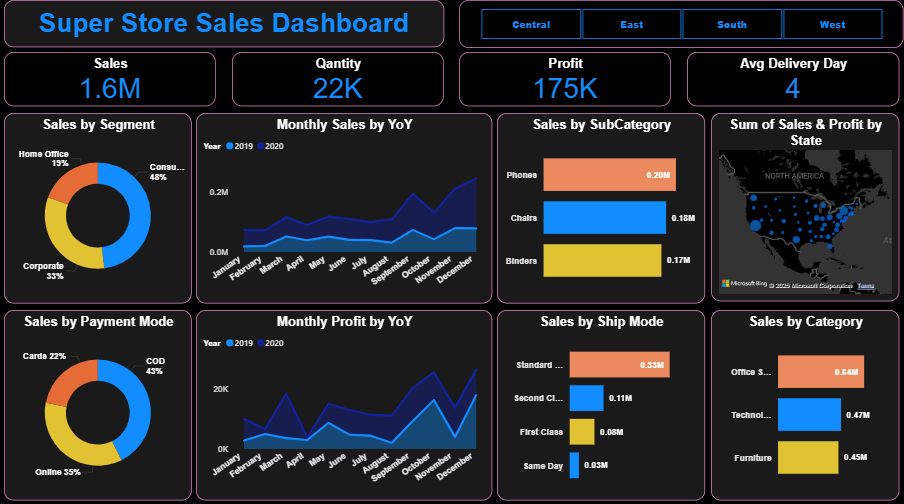

What the dashboard file says about the page in this screenshot:
{"tool":"powerbi","page":{"name":"Dashboard","canvas":[1280,720],"ordinal":0},"visuals":[{"type":"clusteredBarChart","title":"Sales by Category","fields":{"Category":["SuperStore_Sales_Dataset.Category"],"Y":["Sum(SuperStore_Sales_Dataset.Sales)"]},"box":[1007.9,442.5,267,270],"z":0},{"type":"clusteredBarChart","title":"Sales by SubCategory","fields":{"Y":["Sum(SuperStore_Sales_Dataset.Sales)"],"Category":["SuperStore_Sales_Dataset.Sub-Category"]},"box":[703.8,163.6,295,270],"z":1000},{"type":"clusteredBarChart","title":"Sales by Ship Mode","fields":{"Y":["Sum(SuperStore_Sales_Dataset.Sales)"],"Category":["SuperStore_Sales_Dataset.Ship Mode"]},"box":[703.8,442.5,295,270],"z":2000},{"type":"stackedAreaChart","title":"Monthly Sales by YoY","fields":{"Y":["Sum(SuperStore_Sales_Dataset.Sales)"],"Category":["SuperStore_Sales_Dataset.Order Date.Variation.Date Hierarchy.Month","SuperStore_Sales_Dataset.Order Date.Variation.Date Hierarchy.Day"],"Series":["SuperStore_Sales_Dataset.Order Date.Variation.Date Hierarchy.Year"]},"box":[277.2,163.6,420,270],"z":3000},{"type":"stackedAreaChart","title":"Monthly Profit by YoY","fields":{"Category":["SuperStore_Sales_Dataset.Order Date.Variation.Date Hierarchy.Month","SuperStore_Sales_Dataset.Order Date.Variation.Date Hierarchy.Day"],"Series":["SuperStore_Sales_Dataset.Order Date.Variation.Date Hierarchy.Year"],"Y":["Sum(SuperStore_Sales_Dataset.Profit)"]},"box":[277.2,442.5,420,270],"z":4000},{"type":"map","title":"Sum of Sales & Profit by State","fields":{"Category":["SuperStore_Sales_Dataset.State"],"Size":["Sum(SuperStore_Sales_Dataset.Sales)"]},"box":[1007.9,162.9,267.1,267.1],"z":5000},{"type":"donutChart","title":"Sales by Segment","fields":{"Category":["SuperStore_Sales_Dataset.Segment"],"Y":["Sum(SuperStore_Sales_Dataset.Sales)"]},"box":[6.1,163,266,270],"z":6000},{"type":"donutChart","title":"Sales by Payment Mode","fields":{"Y":["Sum(SuperStore_Sales_Dataset.Sales)"],"Category":["SuperStore_Sales_Dataset.Payment Mode"]},"box":[6.1,441.9,266,270],"z":7000},{"type":"slicer","fields":{"Values":["SuperStore_Sales_Dataset.Region"]},"box":[650.6,2.8,630,68],"z":8000},{"type":"textbox","box":[5.7,2.8,623.6,66.6],"z":9000},{"type":"card","title":"Sales","fields":{"Values":["Sum(SuperStore_Sales_Dataset.Sales)"]},"box":[5.7,77,300,77.3],"z":10000},{"type":"card","title":"Qantity","fields":{"Values":["Sum(SuperStore_Sales_Dataset.Quantity)"]},"box":[328.4,77,300,77.3],"z":11000},{"type":"card","title":"Profit","fields":{"Values":["Sum(SuperStore_Sales_Dataset.Profit)"]},"box":[651,77,300,77.3],"z":12000},{"type":"card","title":"Avg Delivery Day","fields":{"Values":["Avg(SuperStore_Sales_Dataset.AvgDelivery)"]},"box":[973.7,77,300.7,77.3],"z":13000}]}

Visuals, with their boxes in screenshot pixels (x1, y1, x2, y2), scaled from the page's 1280x720 canvas onto the 904x504 screenshot:
"Sales by Category" clusteredBarChart: bbox=(712, 310, 900, 499)
"Sales by SubCategory" clusteredBarChart: bbox=(497, 115, 705, 304)
"Sales by Ship Mode" clusteredBarChart: bbox=(497, 310, 705, 499)
"Monthly Sales by YoY" stackedAreaChart: bbox=(196, 115, 492, 304)
"Monthly Profit by YoY" stackedAreaChart: bbox=(196, 310, 492, 499)
"Sum of Sales & Profit by State" map: bbox=(712, 114, 900, 301)
"Sales by Segment" donutChart: bbox=(4, 114, 192, 303)
"Sales by Payment Mode" donutChart: bbox=(4, 309, 192, 498)
slicer - SuperStore_Sales_Dataset.Region: bbox=(459, 2, 903, 50)
textbox: bbox=(4, 2, 444, 49)
"Sales" card: bbox=(4, 54, 216, 108)
"Qantity" card: bbox=(232, 54, 444, 108)
"Profit" card: bbox=(460, 54, 672, 108)
"Avg Delivery Day" card: bbox=(688, 54, 900, 108)
